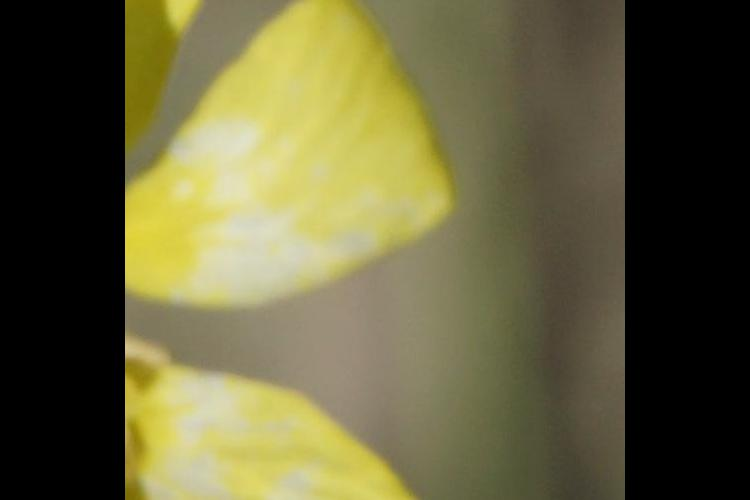yellow: (145, 1, 465, 500)
